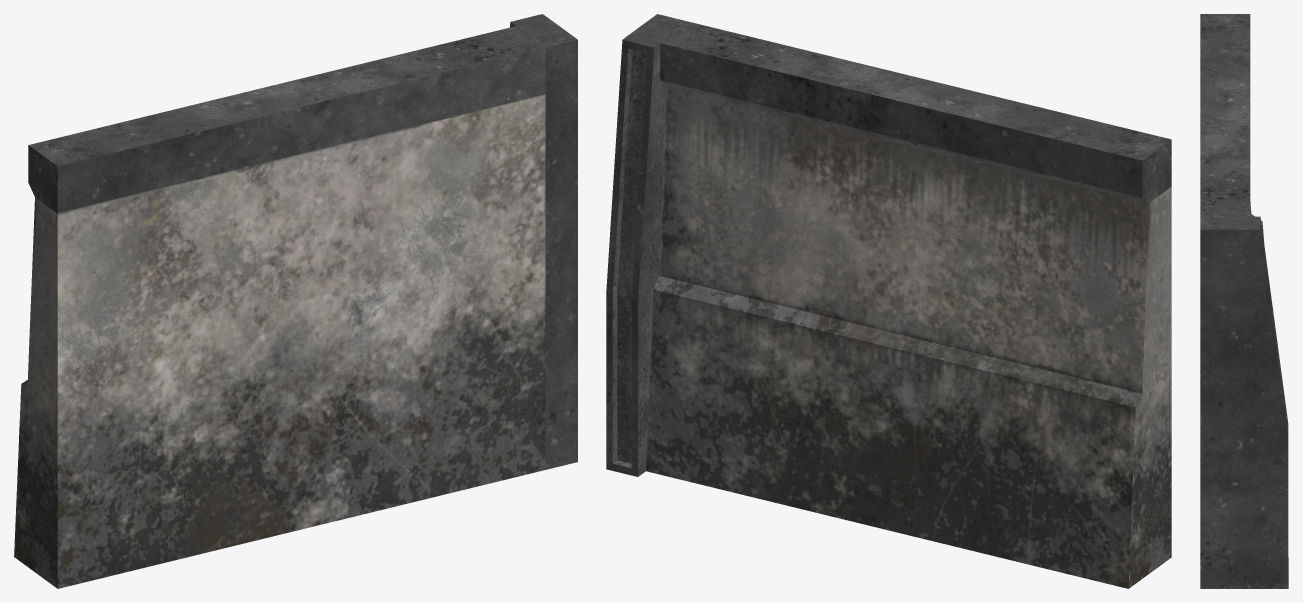
File: wall.fbx
3 views of the same model, side by side, from view 1: azimuth 30°, elevation 25°; view 2: azimuth 150°, elevation 25°; view 3: azimuth 270°, elevation 25° (orthographic). The views are drawn at different scales.
Visible parts, largest first — view 1: wall; view 2: wall; view 3: wall.
Part boxes in pixels (x1=…): wall: x1=14, y1=14, x2=577, y2=588; wall: x1=606, y1=14, x2=1171, y2=588; wall: x1=1200, y1=14, x2=1288, y2=588.
Size of the model in its own units: 1615 by 1254 by 278.
